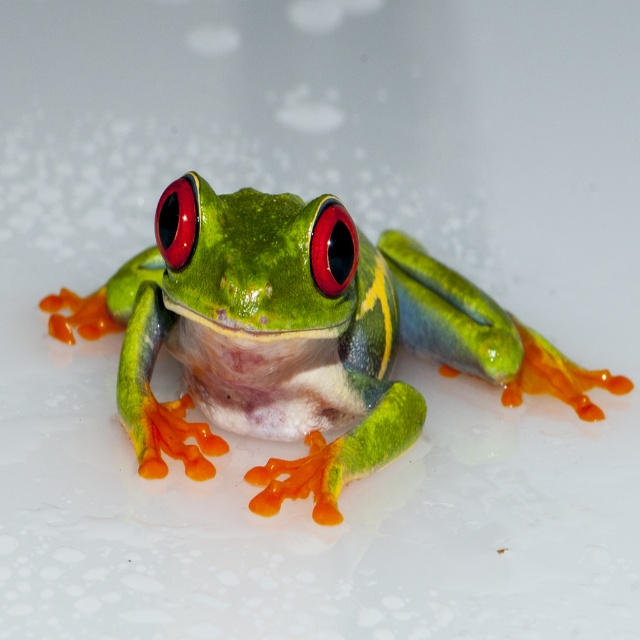Frog: (38, 168, 634, 522)
